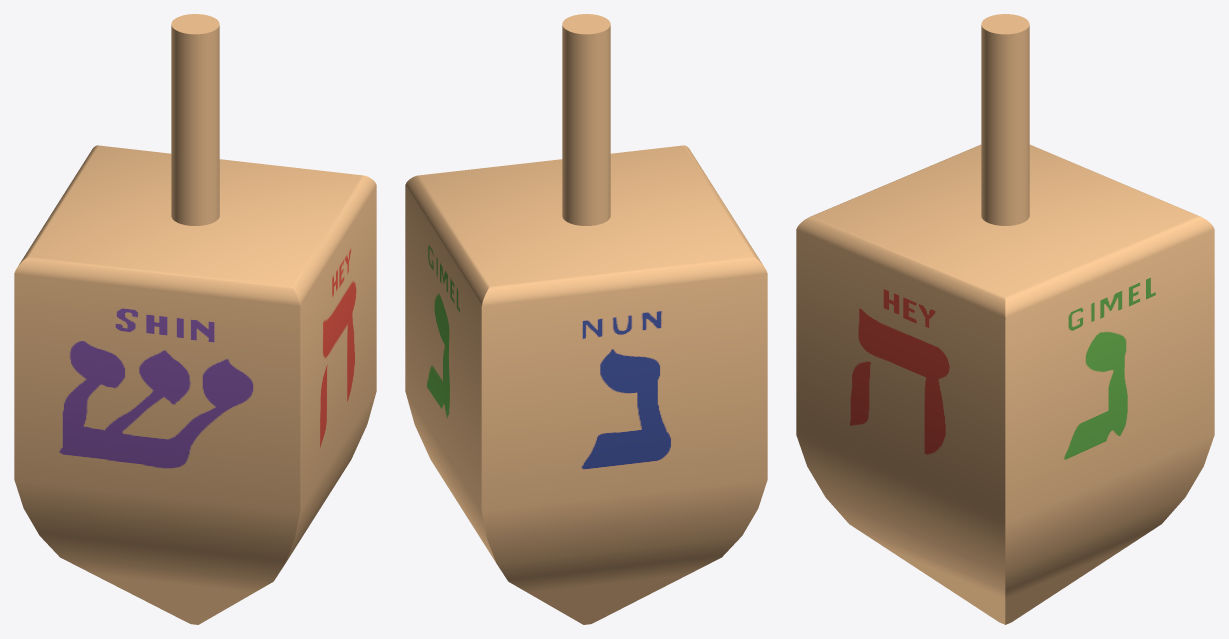
File: spintop.glb
3 renders of one model, left to right at view 1: azimuth 30°, elevation 25°; view 2: azimuth 150°, elevation 25°; view 3: azimuth 270°, elevation 25°, orthographic.
Parts seen in each view (by area): view 1: wood block, stick; view 2: wood block, stick; view 3: wood block, stick.
Part boxes in pixels (x1=…): wood block: x1=14, y1=145, x2=376, y2=624; stick: x1=171, y1=14, x2=219, y2=225; wood block: x1=405, y1=145, x2=767, y2=624; stick: x1=562, y1=14, x2=610, y2=225; wood block: x1=796, y1=144, x2=1214, y2=624; stick: x1=981, y1=14, x2=1029, y2=225.
Size of the model in its own units: 1.73 by 2.74 by 1.73.
2 materials, 1 textured.
